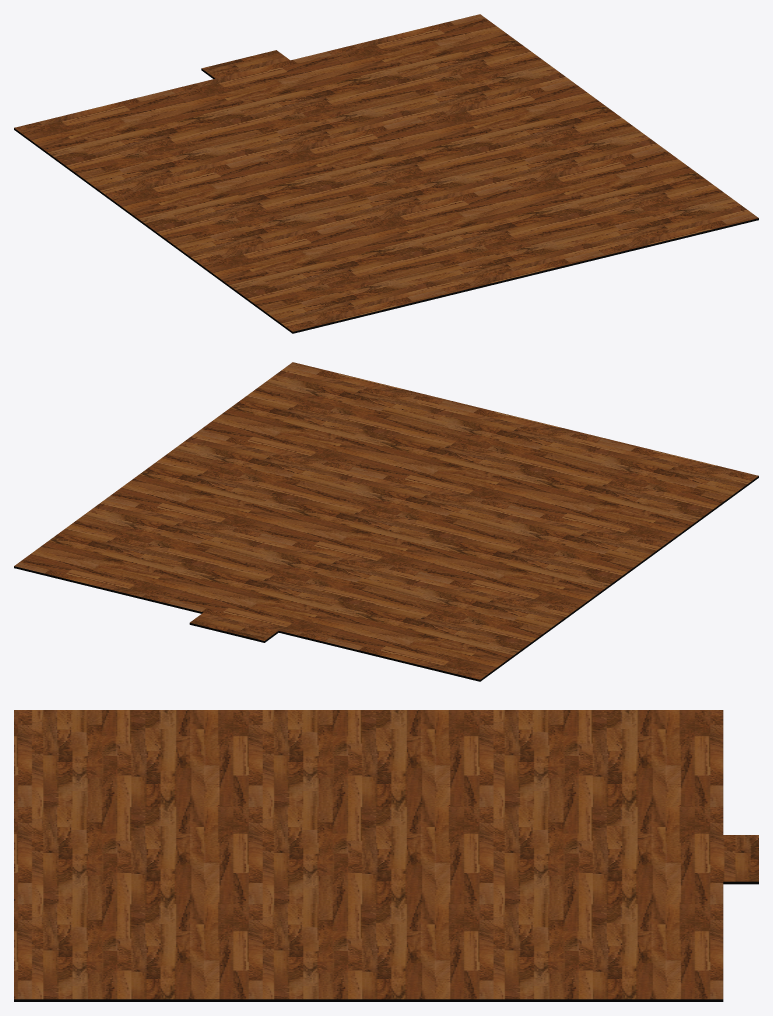
Rendered from ApartmentFloorEntrance.obj.
3 renders of one model, top to bottom at view 1: azimuth 30°, elevation 25°; view 2: azimuth 150°, elevation 25°; view 3: azimuth 270°, elevation 25°, orthographic. The views are drawn at different scales.
Visible parts, largest first — view 1: Cube_Cube.001; view 2: Cube_Cube.001; view 3: Cube_Cube.001.
Part boxes in pixels (x1=…): Cube_Cube.001: x1=14, y1=14, x2=758, y2=333; Cube_Cube.001: x1=14, y1=362, x2=758, y2=681; Cube_Cube.001: x1=14, y1=710, x2=758, y2=1001.
Size of the model in its own units: 35.02 by 0.1403 by 38.1.
